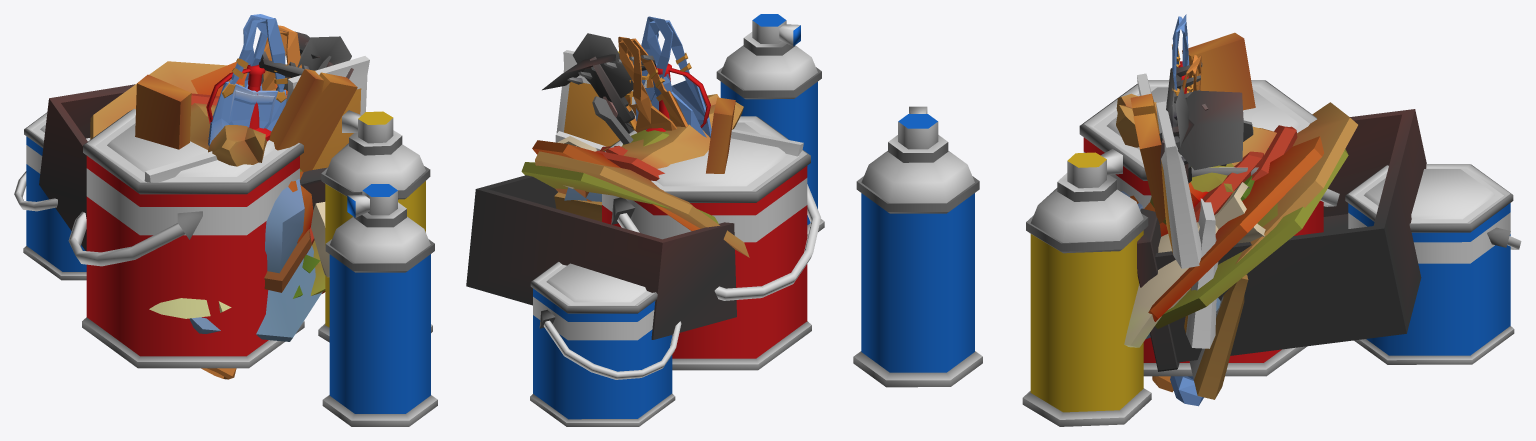
The model's file is tools_inspect.glb.
3 renders of one model, left to right at view 1: azimuth 30°, elevation 25°; view 2: azimuth 150°, elevation 25°; view 3: azimuth 270°, elevation 25°, orthographic. The views are drawn at different scales.
Parts seen in each view (by area): view 1: paint_can_red, wood_scraps, drawer, blue_hat, gardening_and_sunglasses, blue_overalls, seed_packets, gardening_gloves, red_hat, shovel, orange_overalls, wood_glue (+2 smaller); view 2: paint_can_red, drawer, gardening_and_sunglasses, seed_packets, blue_overalls, orange_overalls, green_hat, shovel, wood_scraps, red_hat, hoe, slotted_screwdriver (+3 smaller); view 3: paint_can_red, drawer, seed_packets, red_hat, gardening_and_sunglasses, wood_scraps, green_hat, hoe, gardening_gloves, blue_overalls, rake, orange_overalls.
Part boxes in pixels (left/top/right/bottom): paint_can_red: left=14, top=108, right=437, bottom=426; wood_scraps: left=135, top=69, right=357, bottom=172; drawer: left=39, top=77, right=327, bottom=250; blue_hat: left=189, top=179, right=322, bottom=341; gardening_and_sunglasses: left=90, top=61, right=275, bottom=166; blue_overalls: left=208, top=14, right=287, bottom=146; seed_packets: left=144, top=56, right=369, bottom=182; gardening_gloves: left=149, top=202, right=329, bottom=318; red_hat: left=191, top=62, right=325, bottom=293; shovel: left=284, top=36, right=351, bottom=90; orange_overalls: left=201, top=25, right=301, bottom=379; wood_glue: left=206, top=64, right=271, bottom=141; paint_can_red: left=530, top=14, right=824, bottom=426; drawer: left=466, top=175, right=736, bottom=339; gardening_and_sunglasses: left=535, top=94, right=749, bottom=257; seed_packets: left=554, top=50, right=803, bottom=221; blue_overalls: left=635, top=16, right=711, bottom=137; orange_overalls: left=618, top=36, right=688, bottom=132; green_hat: left=521, top=130, right=718, bottom=223; shovel: left=572, top=33, right=636, bottom=130; wood_scraps: left=632, top=55, right=735, bottom=173; red_hat: left=532, top=140, right=700, bottom=230; hoe: left=542, top=54, right=633, bottom=133; slotted_screwdriver: left=592, top=96, right=633, bottom=144; paint_can_red: left=853, top=80, right=1521, bottom=426; drawer: left=1137, top=109, right=1426, bottom=371; seed_packets: left=1137, top=73, right=1248, bottom=399; red_hat: left=1130, top=136, right=1323, bottom=321; gardening_and_sunglasses: left=1116, top=93, right=1357, bottom=264; wood_scraps: left=1130, top=32, right=1255, bottom=223; green_hat: left=1150, top=148, right=1348, bottom=328; hoe: left=1159, top=90, right=1243, bottom=183; gardening_gloves: left=1124, top=182, right=1265, bottom=347; blue_overalls: left=1170, top=14, right=1203, bottom=406; rake: left=1166, top=62, right=1202, bottom=164; orange_overalls: left=1152, top=55, right=1201, bottom=392.
Size of the model in its own units: 0.2706 by 0.3215 by 0.4934.
